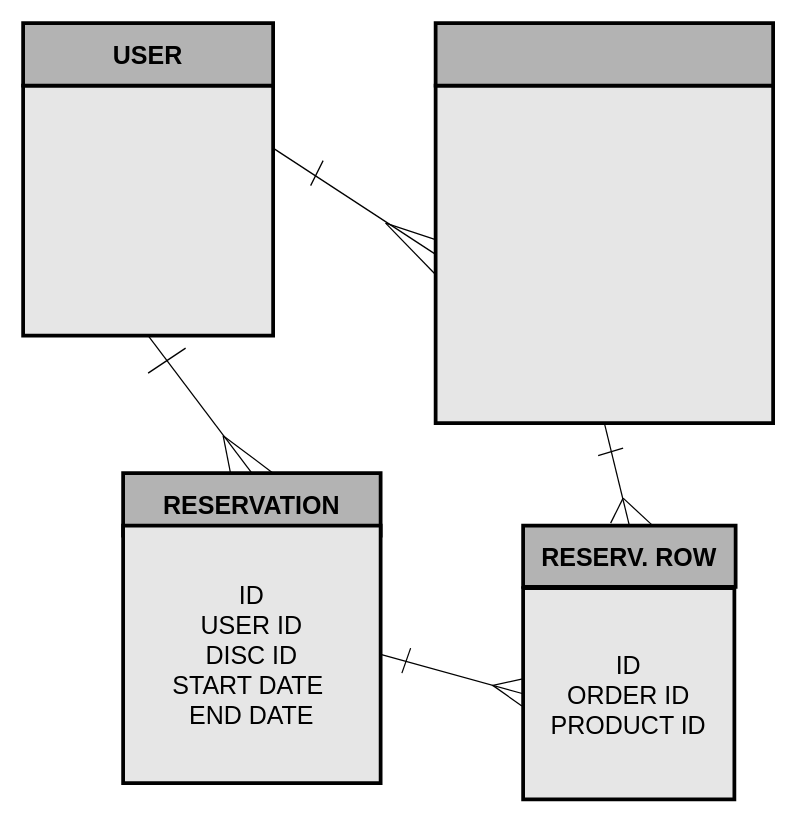
The diagram is 796 pixels wide and 831 high, and some of its shapes have lost their labels. The centre of each missing label's shape, as x and y in pixels:
"DISC" goes at (x=603, y=54).
"ID NAME TYPE SPEED GLIDE TURN FADE OWNERID PIC COLOUR FADE" goes at (x=603, y=253).
"ID NIMI E-MAIL TELEFON AADRESS USERNAME PASSWORD ADMIN" goes at (x=147, y=210).
